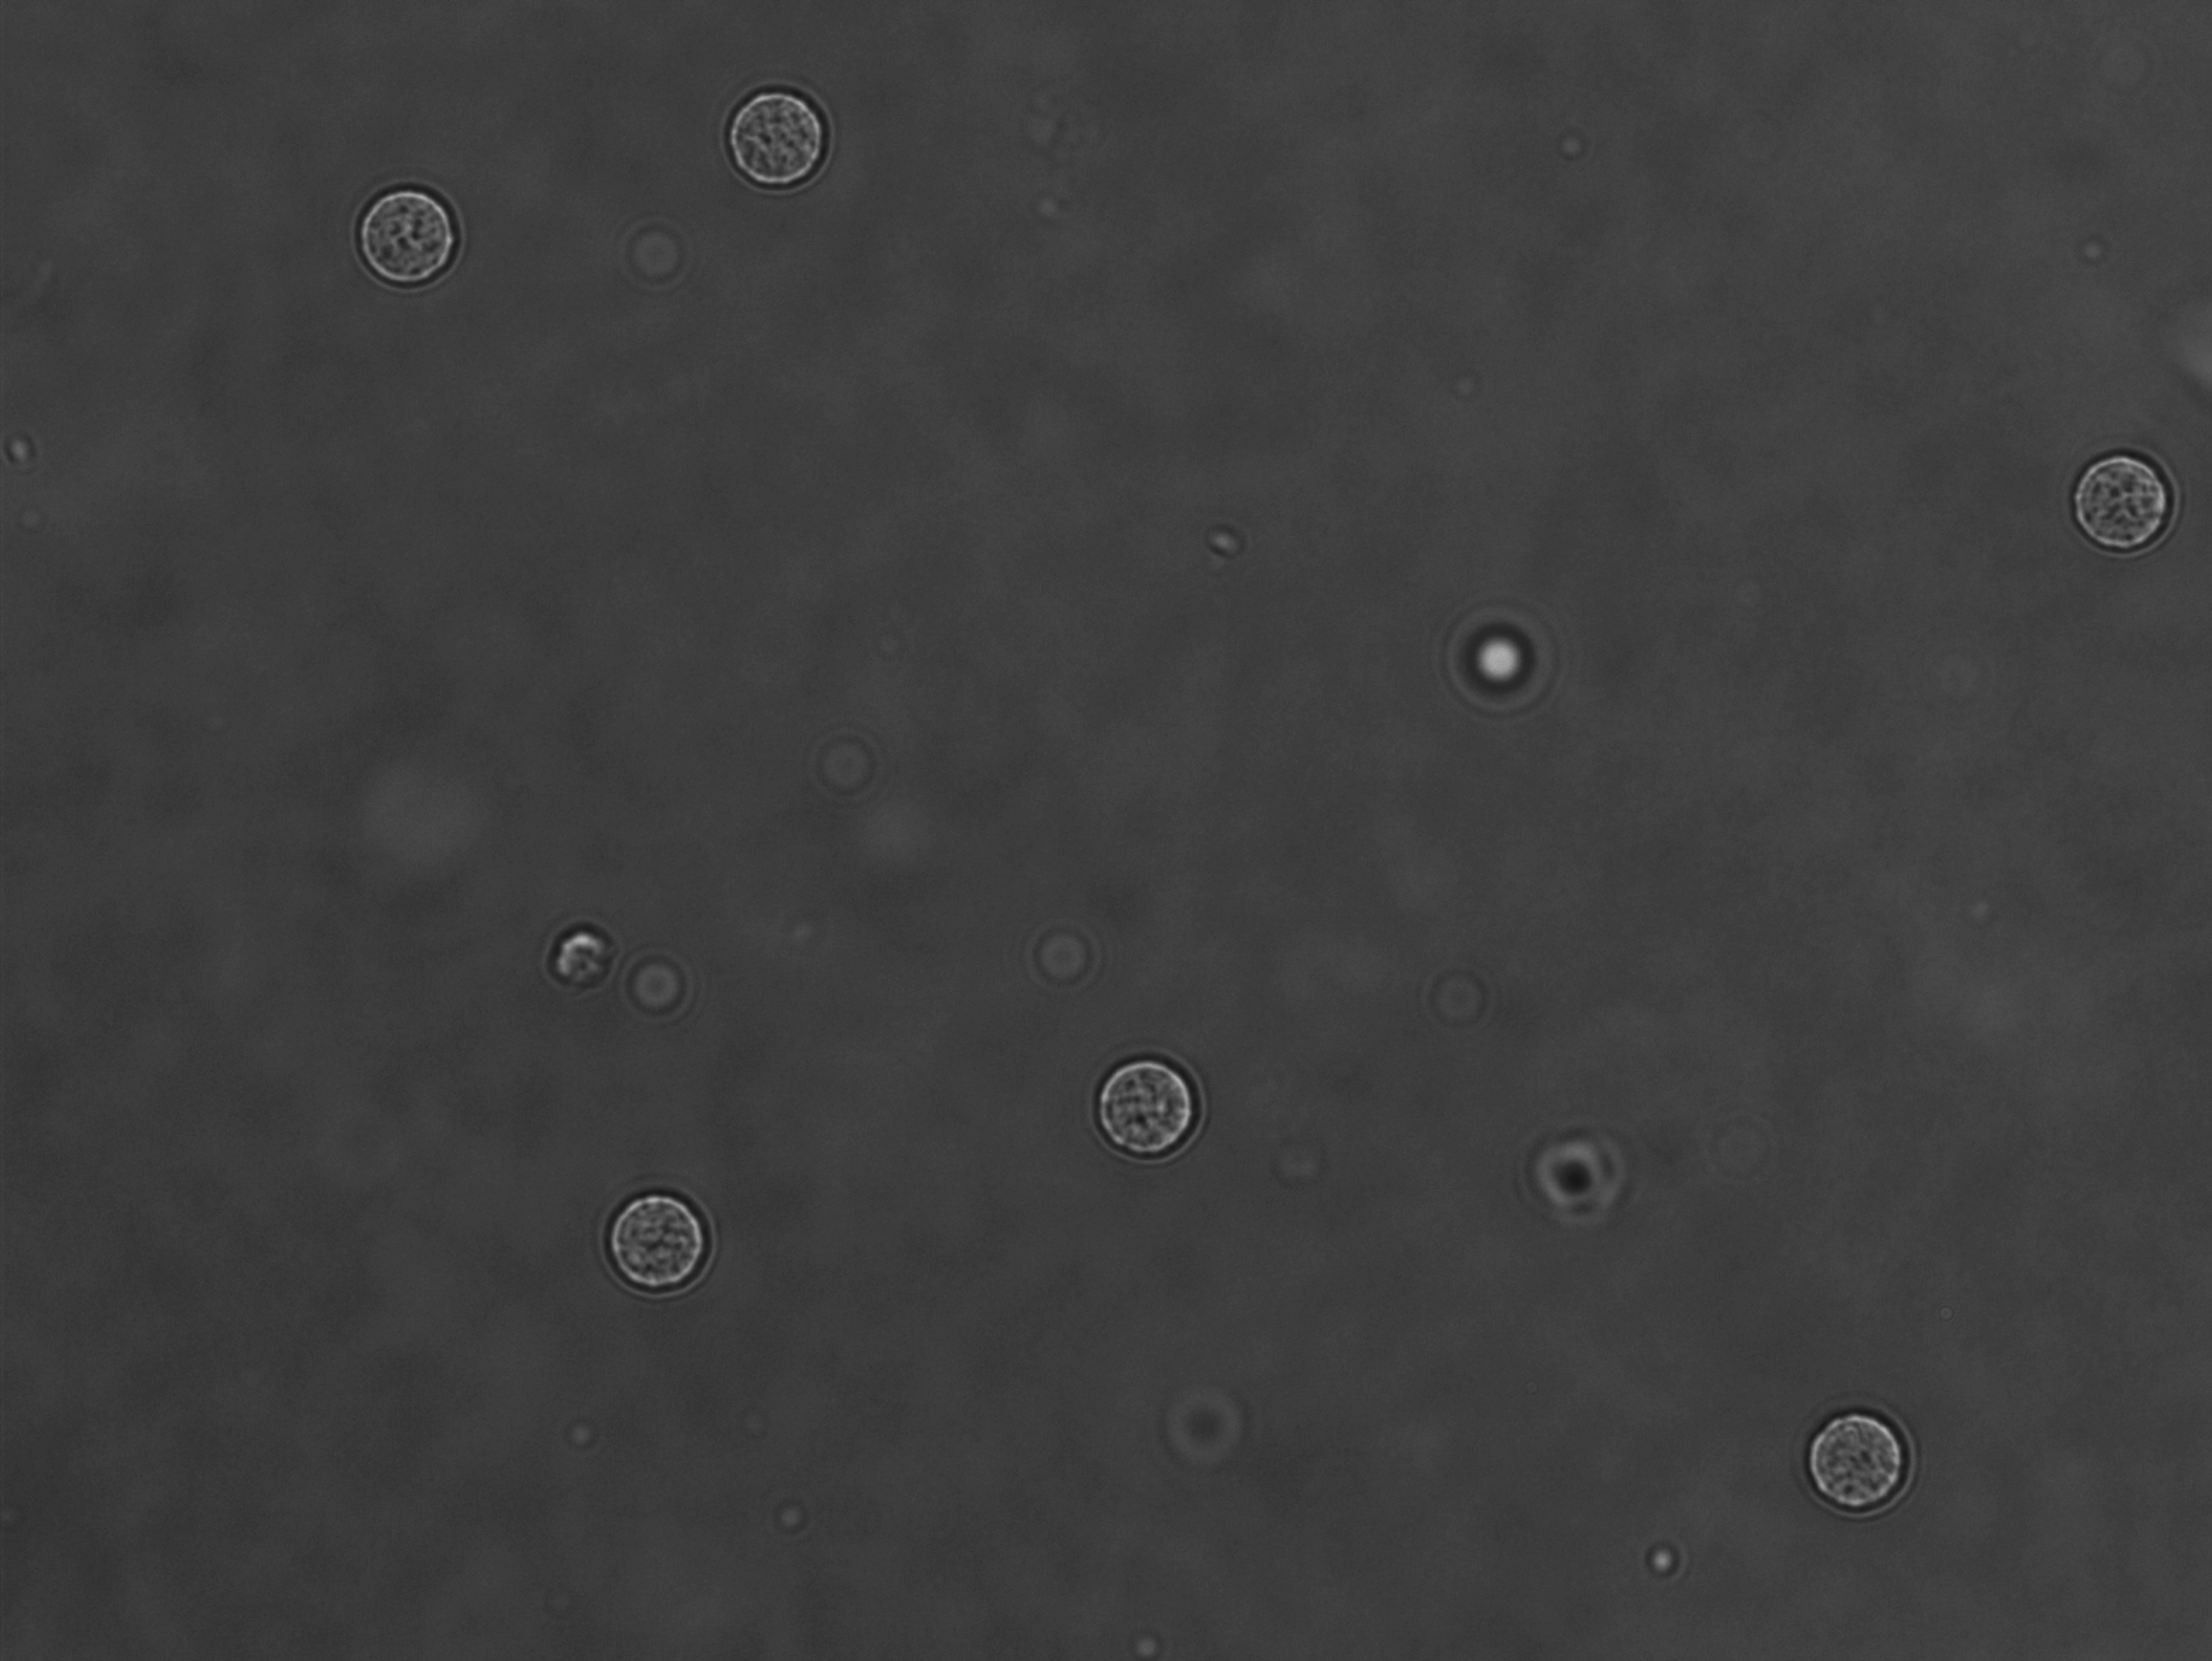depth:0: (579, 1165, 731, 1317), (2045, 426, 2196, 569), (1078, 1033, 1212, 1174), (710, 79, 846, 216), (1786, 1382, 1919, 1521), (338, 178, 481, 307)
